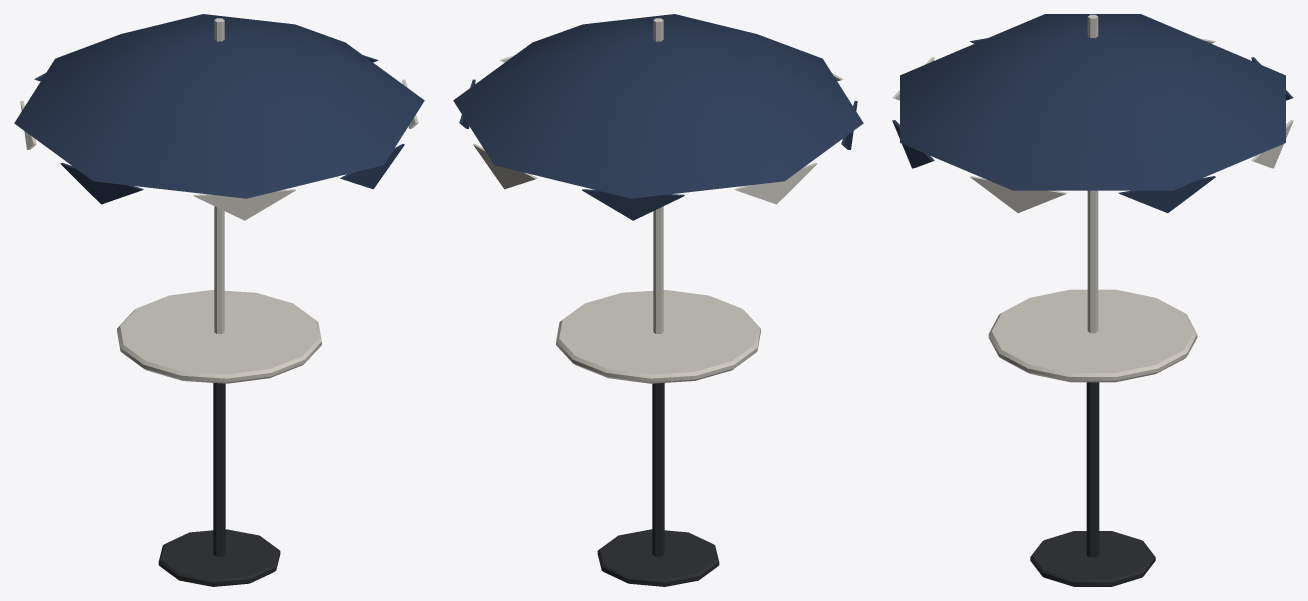
Rendered from 159_table_parasol_terrasse.fbx.
3 views of the same model, side by side, from view 1: azimuth 30°, elevation 25°; view 2: azimuth 150°, elevation 25°; view 3: azimuth 270°, elevation 25° (orthographic).
Visible parts, largest first — view 1: Parasol, Table; view 2: Parasol, Table; view 3: Parasol, Table.
Boxes of the visible parts, x1,y1,x2,y2 form: Parasol: (14,14,424,333); Table: (117,290,321,586); Parasol: (453,14,863,333); Table: (556,290,760,586); Parasol: (892,14,1293,333); Table: (988,289,1197,586).
Bounding box in the file's own units: 1.12 × 1.68 × 1.12.
1 material, 1 textured.
